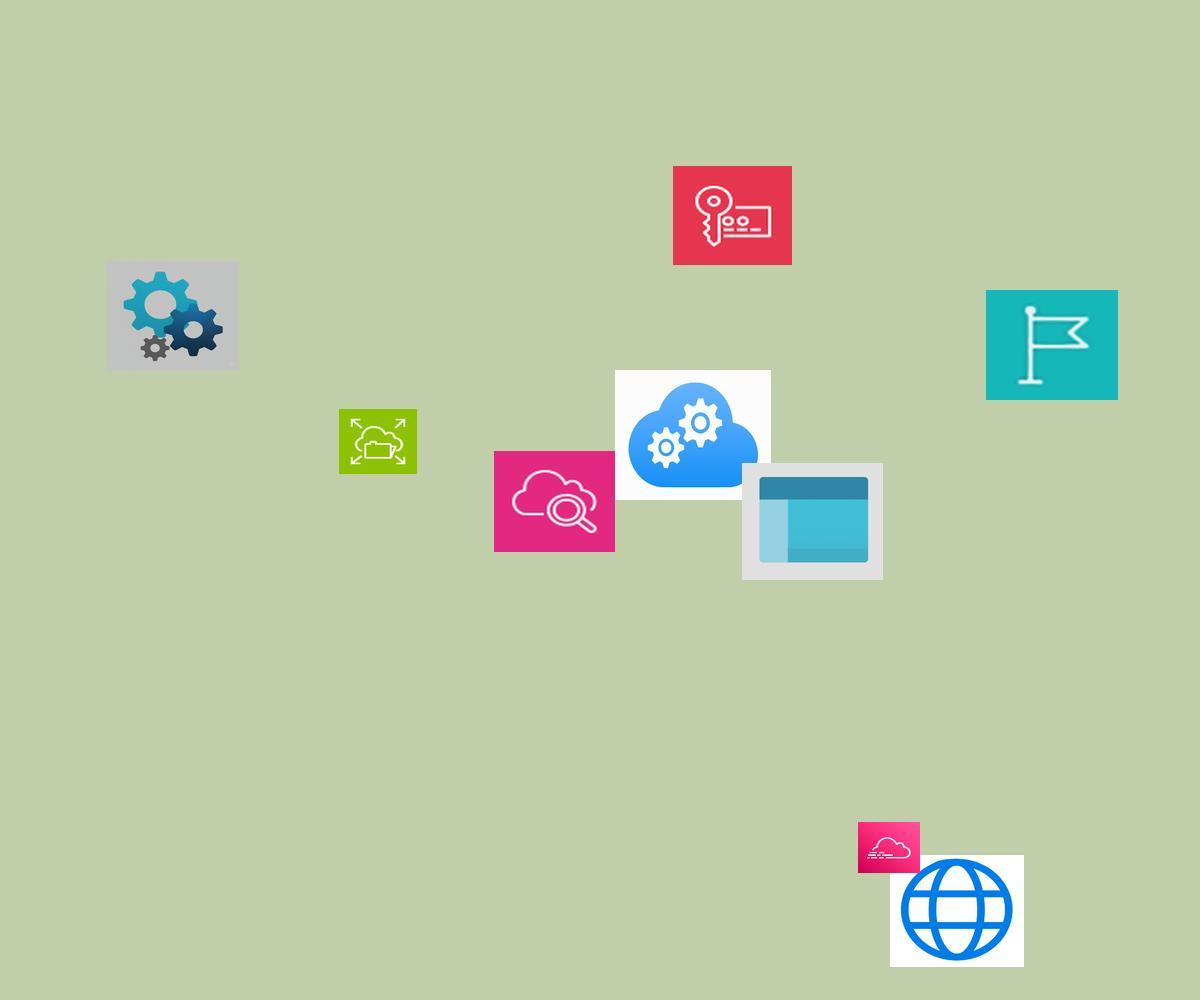AWS-CloudTrail: (858, 822, 920, 873)
AWS-CloudWatch: (494, 451, 615, 552)
AWS-EFS: (339, 409, 417, 474)
AWS-Key-Management-Service: (673, 166, 792, 265)
AWS-Region: (986, 290, 1118, 400)
Azure_api: (107, 261, 239, 371)
Azure_cloud_services: (615, 370, 771, 500)
Azure_http: (890, 855, 1024, 967)
Azure_management-portal: (742, 463, 883, 580)
